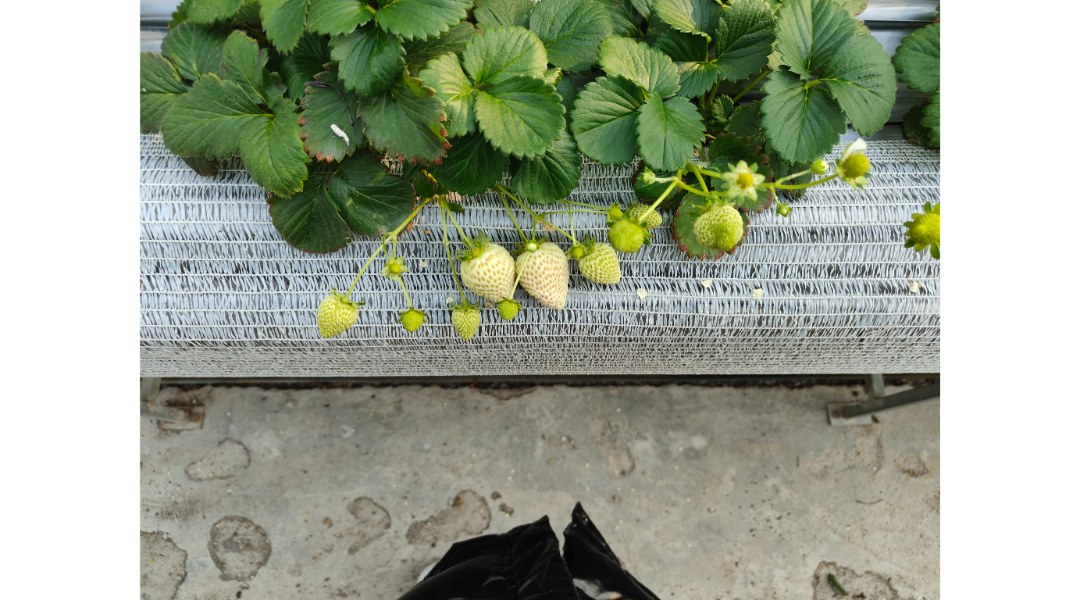berry: (891, 192, 962, 272), (517, 237, 573, 314), (455, 235, 514, 306), (311, 286, 362, 342), (692, 201, 741, 251), (576, 239, 625, 288), (606, 214, 650, 257), (832, 149, 878, 185), (442, 300, 485, 338), (628, 204, 664, 231), (395, 307, 432, 333), (380, 258, 409, 282), (497, 294, 519, 320)
flower: (725, 151, 764, 205)
strain: (344, 248, 380, 297), (436, 203, 456, 276), (499, 203, 528, 241), (396, 199, 426, 229), (506, 189, 540, 214), (449, 212, 471, 247), (649, 187, 674, 216), (638, 167, 670, 183), (547, 217, 569, 238), (577, 195, 604, 211)
